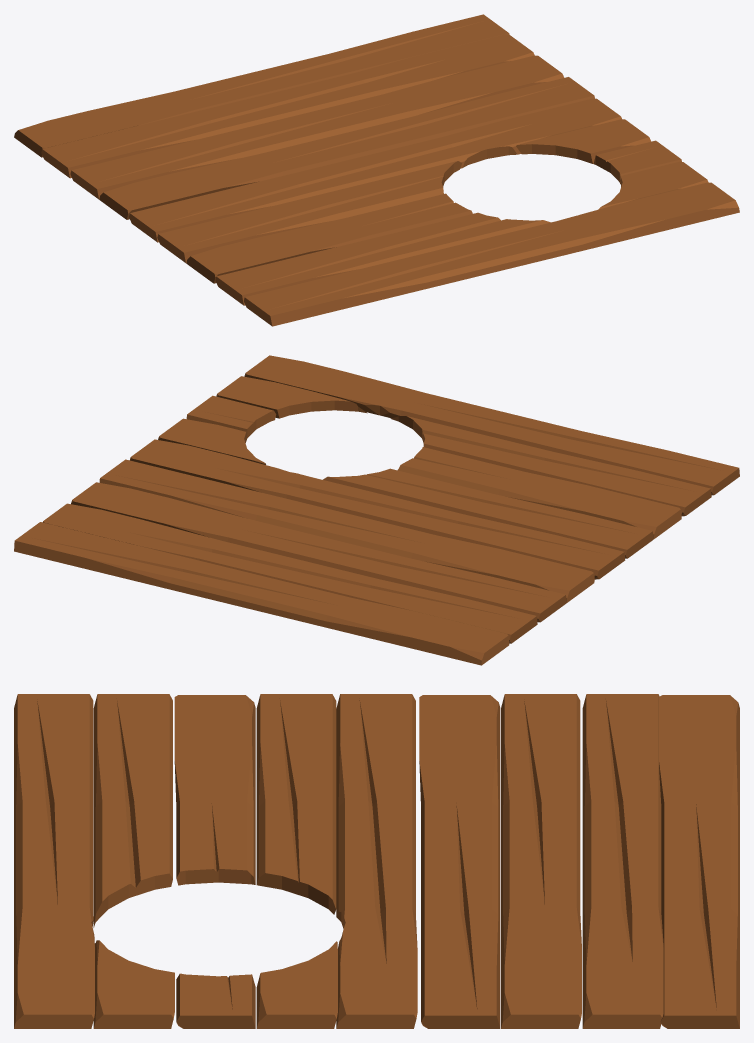
The model's file is Witch_Wood_Plan.fbx.
3 views of the same model, one above another, from view 1: azimuth 30°, elevation 25°; view 2: azimuth 150°, elevation 25°; view 3: azimuth 270°, elevation 25° (orthographic). The views are drawn at different scales.
Parts seen in each view (by area): view 1: Wood_Plan; view 2: Wood_Plan; view 3: Wood_Plan.
Part boxes in pixels (box(x1,y1,x2,y2)): Wood_Plan: box(14, 14, 739, 326); Wood_Plan: box(14, 355, 739, 665); Wood_Plan: box(14, 694, 739, 1028).
Size of the model in its own units: 598 by 11.92 by 571.
